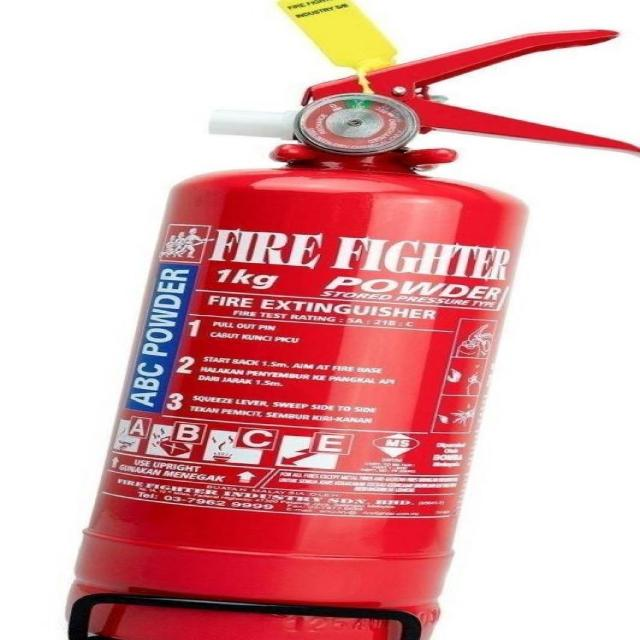fire_extinguisher: (54, 0, 637, 638)
